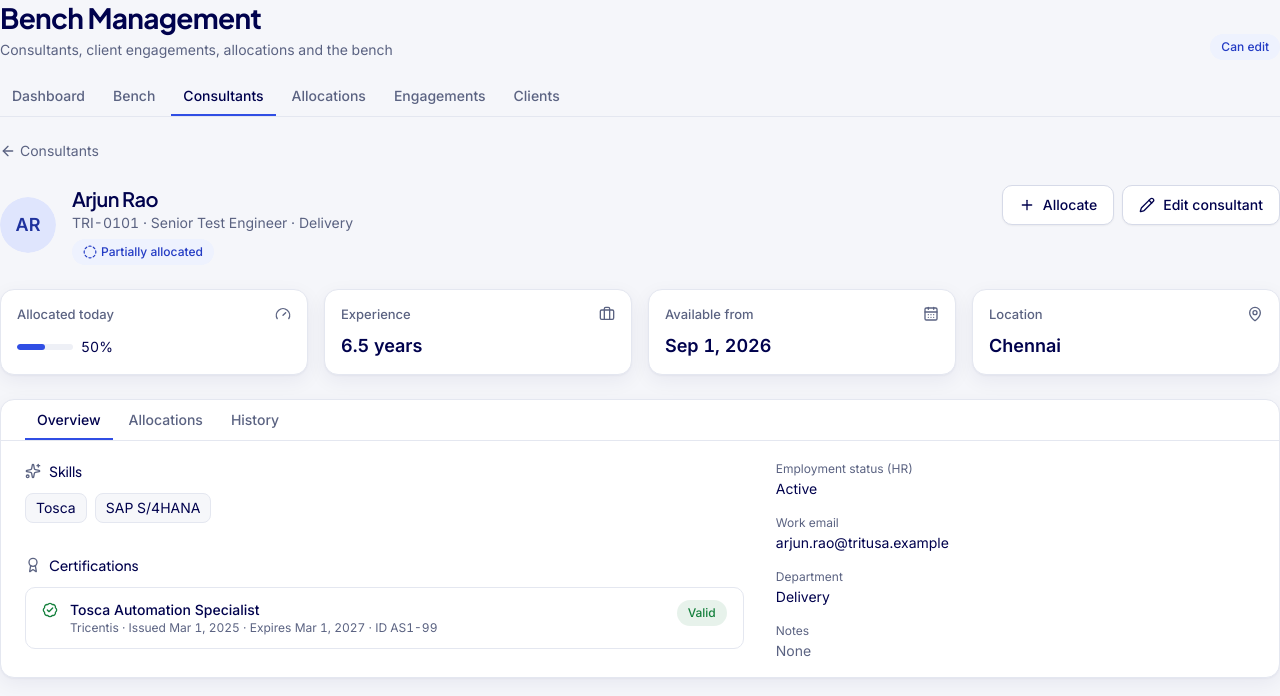
Test: ConsultantProfilePage › lays allocations out on a timeline, billable and non-billable told apart in words
Click the tab "Allocations" at (166, 420), box [116,400,215,440]
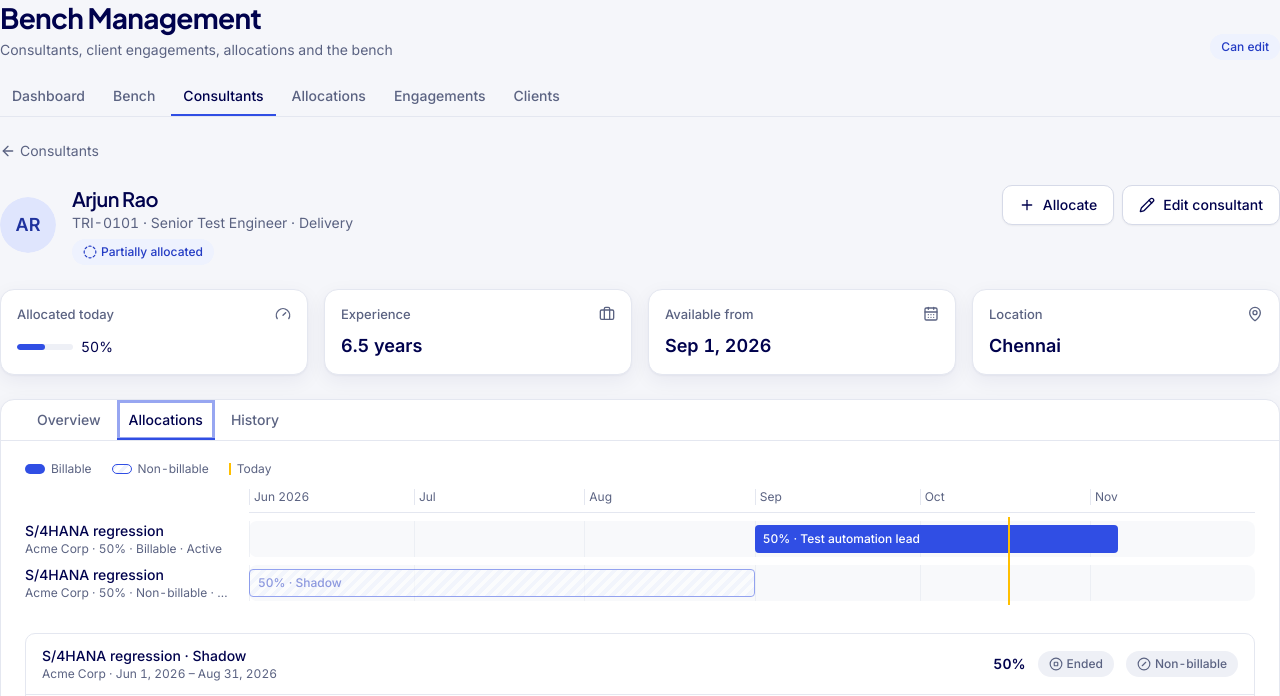
Now the button named "Test automation lead, 50%, billable" is shown, box [755,525,1118,553]
Now the button "50% · Shadow" is shown, box [249,569,755,597]
